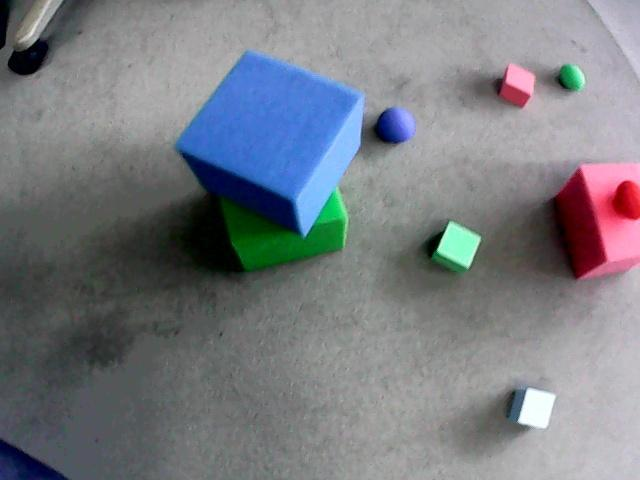blue_block: (176, 51, 364, 235), (0, 440, 65, 479), (508, 387, 555, 428), (507, 389, 525, 421)
red_block: (555, 164, 639, 278), (499, 64, 535, 107)
